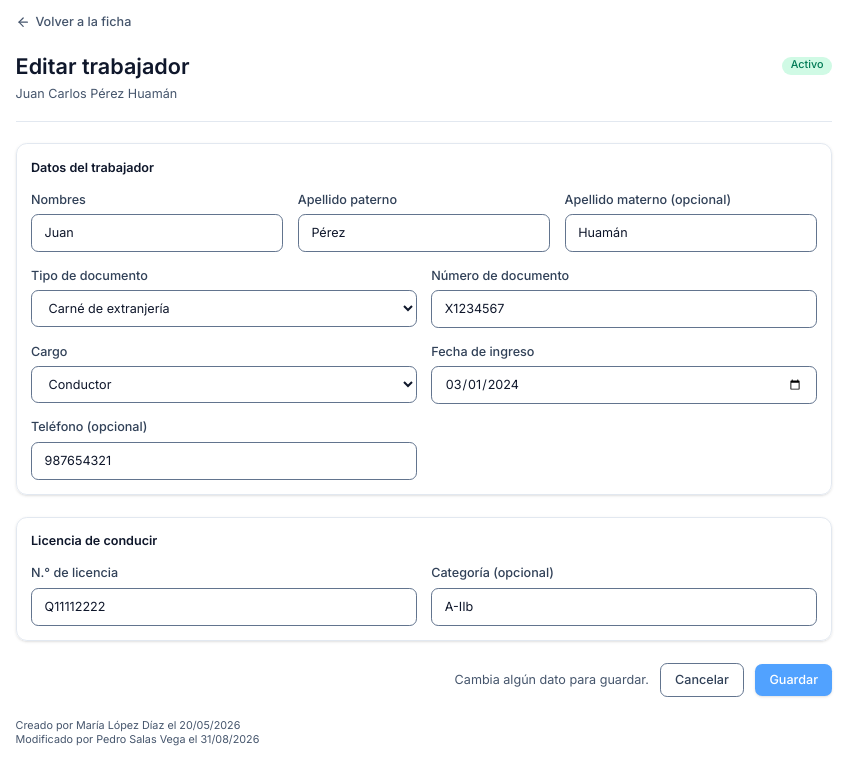
Test: WorkerEditPage › sin cambios no se guarda › mientras no hay cambios lo dice en texto, y el texto se va con el primer cambio
This screenshot has width=850, height=763.
Expected: the text "Cambia algún dato para guardar." is shown, x1=455 y1=671 x2=649 y2=689
Expected: the button "Guardar" is disabled, x1=755 y1=664 x2=832 y2=696
Type "a" into the field labelled "Apellido paterno" at {"x": 424, "y": 234}, box x1=298 y1=214 x2=550 y2=252
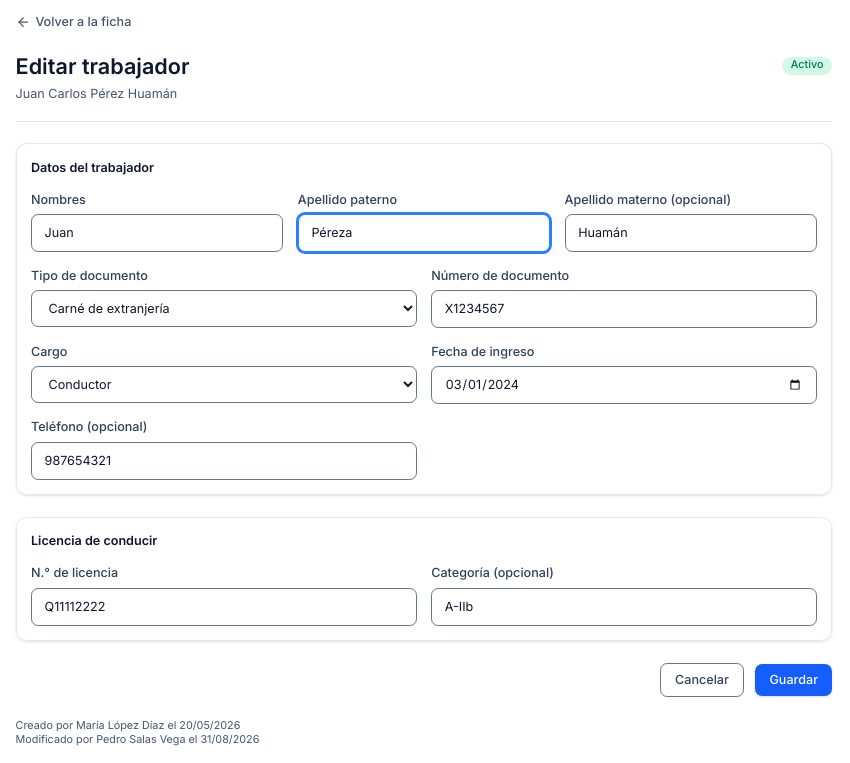
Now the text "Cambia algún dato para guardar." is gone
